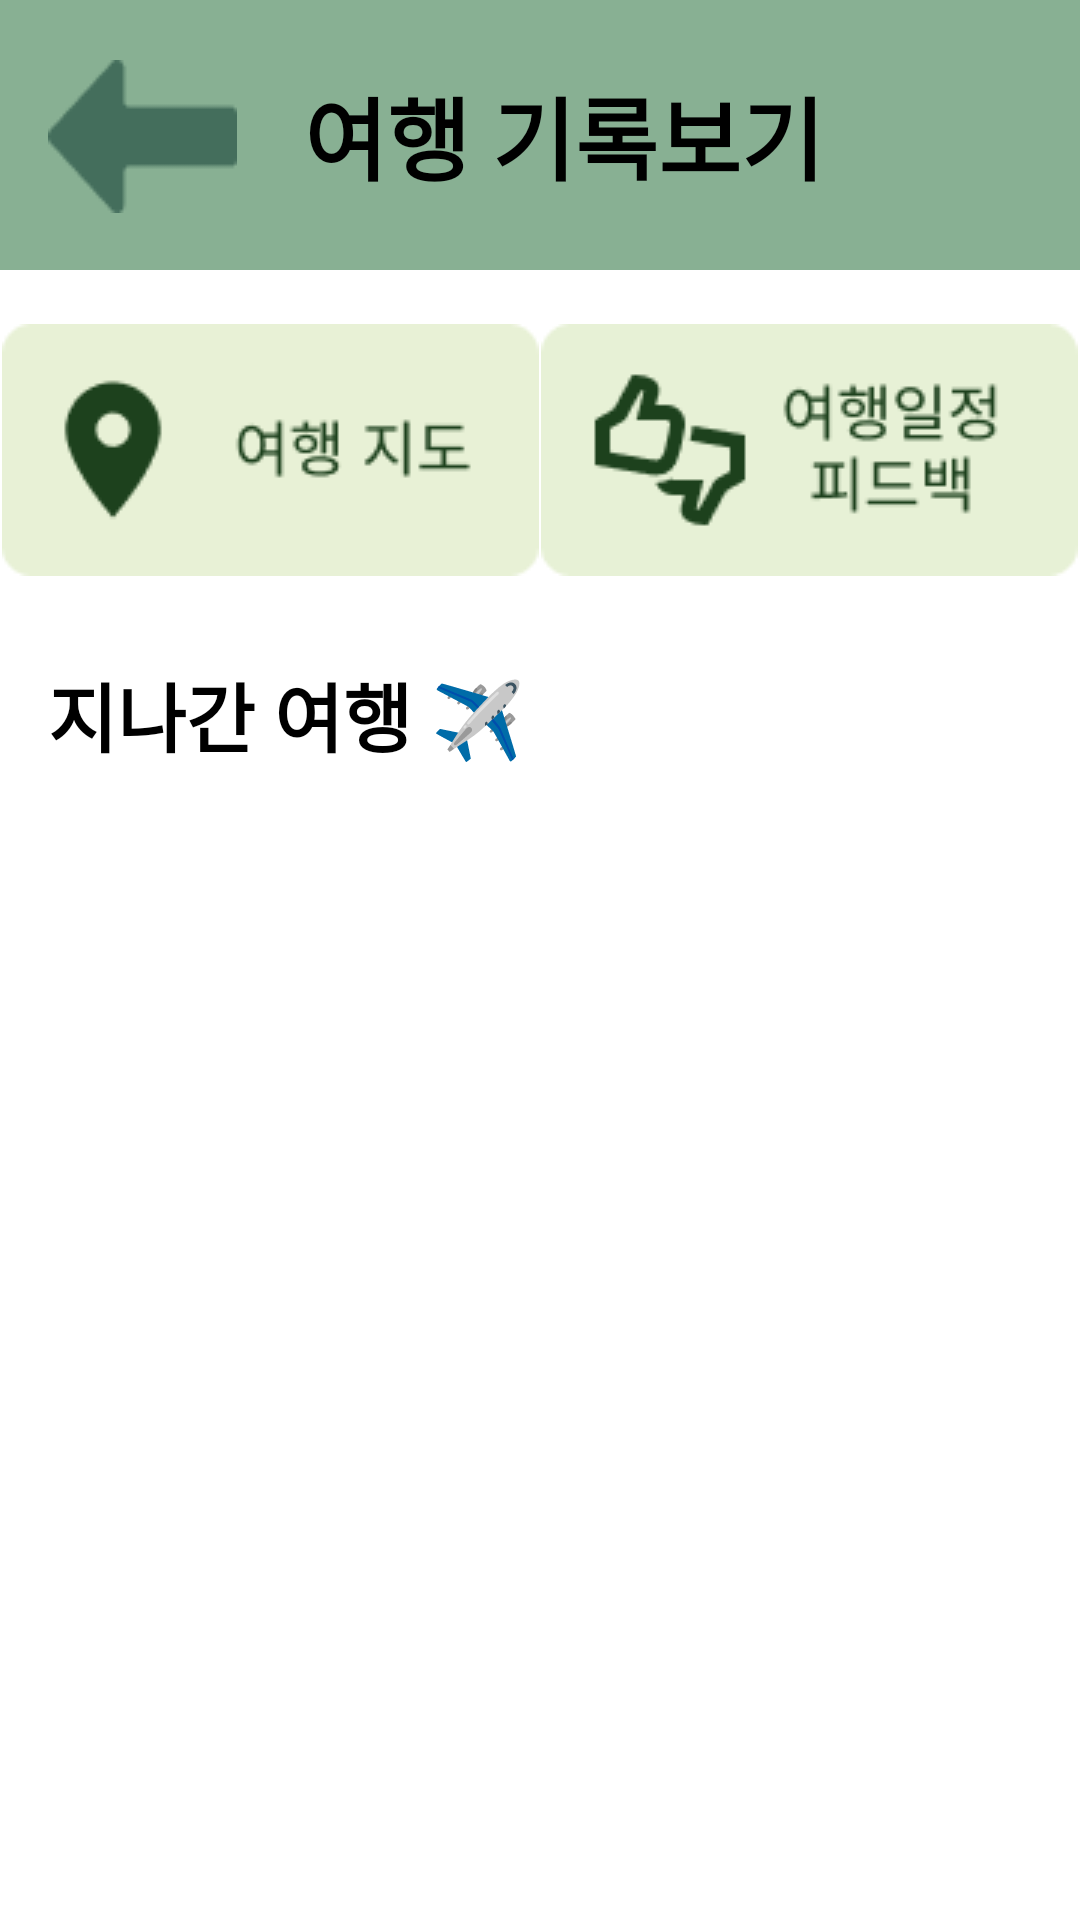

Screen size 1080×1920. Icon name, then its center in pixels as (x,y):
back 버튼: (142,136)
